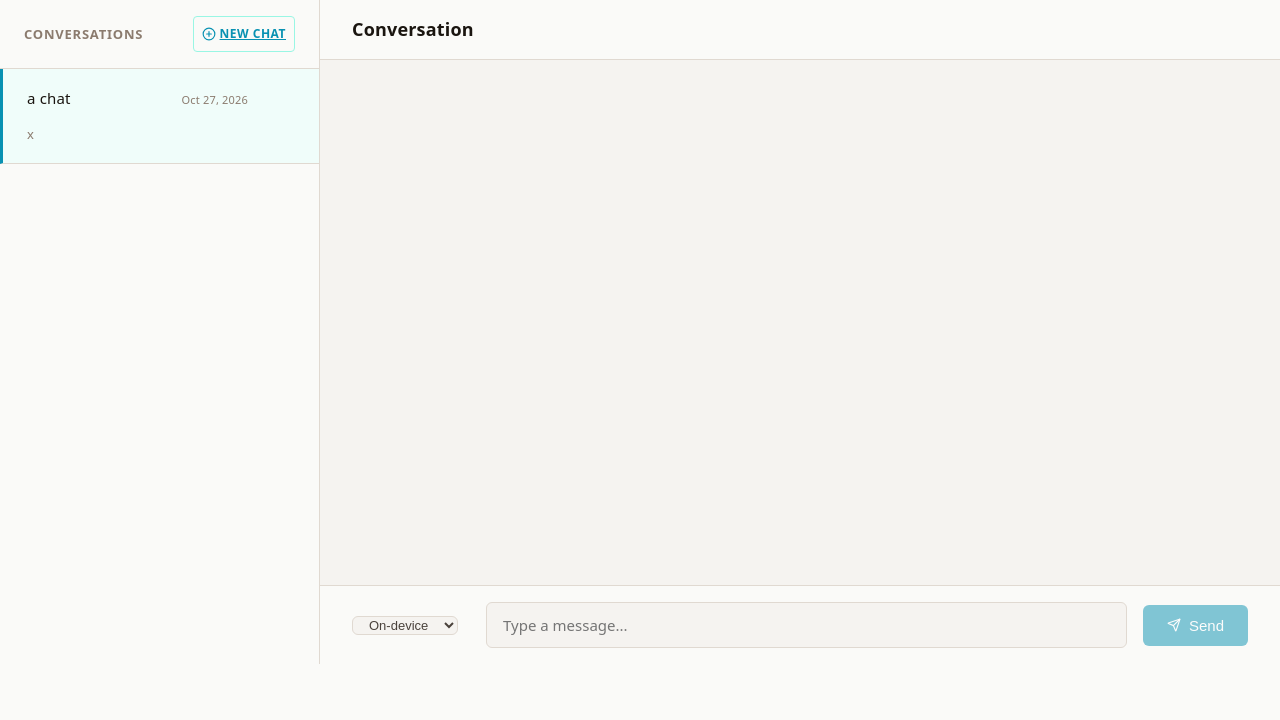
Scenario: the chosen model is remembered › sends the remembered model on a follow-up message
Select "Cloud" in the dropdown named "Which model answers" at [405, 625], box [352,616,458,634]
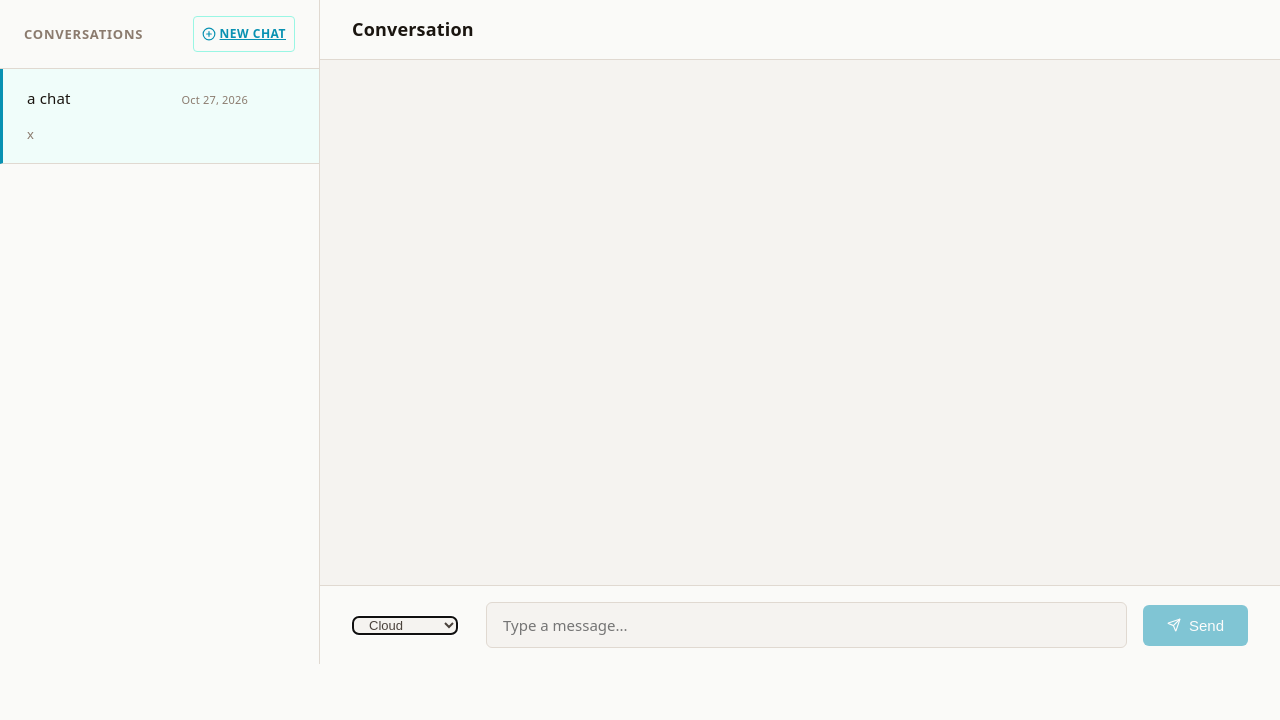
Type "hello" into the field named "Message AI" at [806, 625], box [486,602,1127,648]
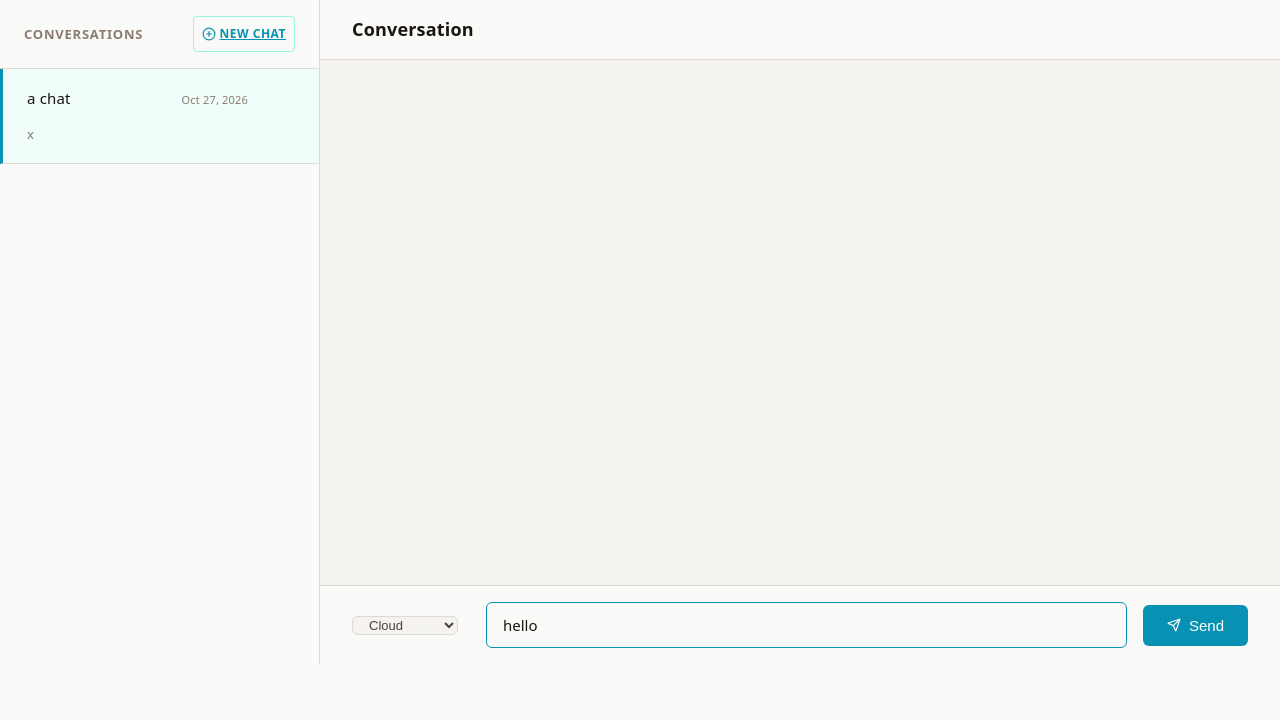
Click the button "Send" at [1196, 625], box [1143,604,1248,646]
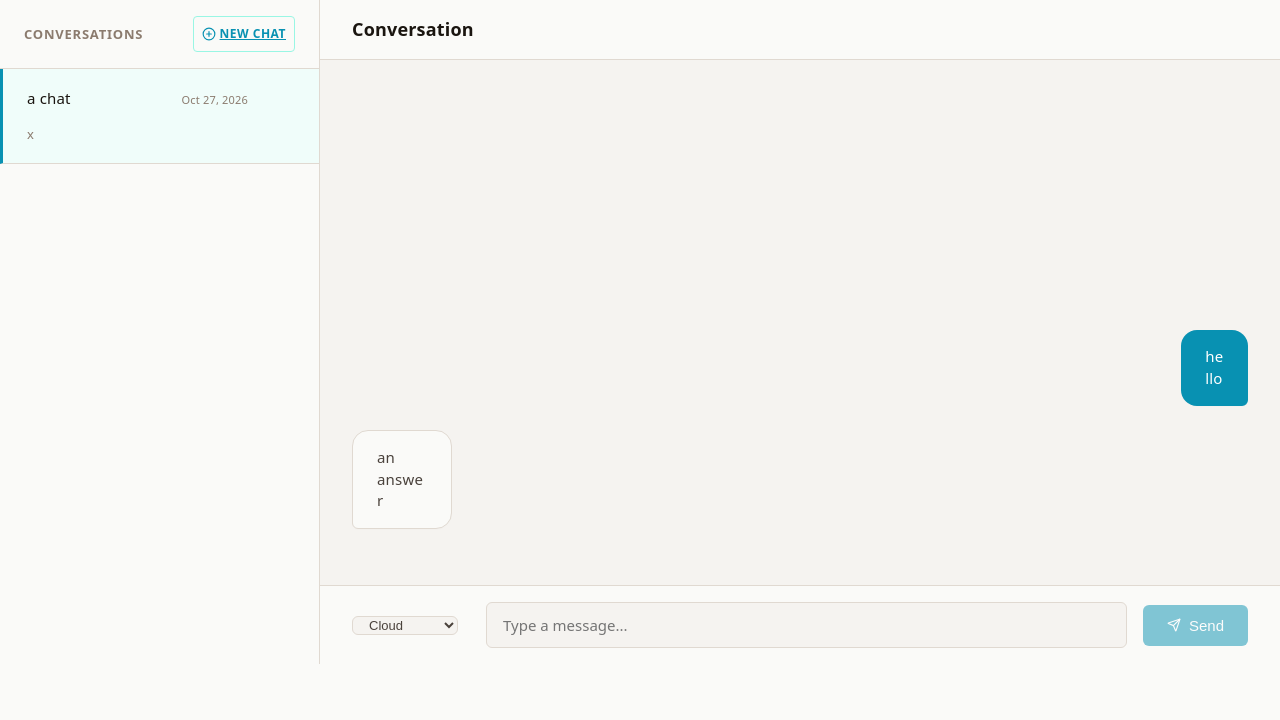
expect the text "an answer" is shown: met, box [377,447,427,512]
